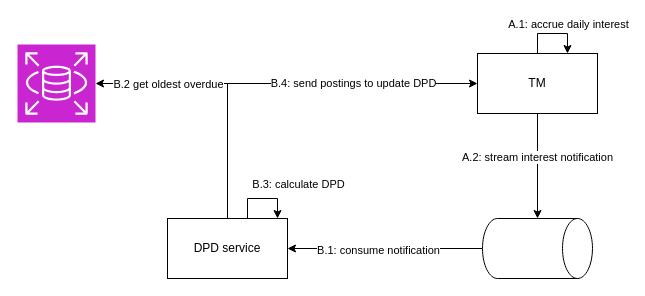
The diagram is 645 pixels wide and 296 high, and some of its shapes have lost their labels. Each missing label, with the centre of its shape:
"DB" goes at (56,83).
"Kafka" goes at (537,248).
